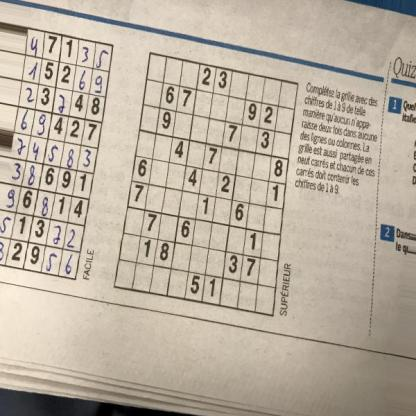sudoku: (113, 49, 301, 320)
